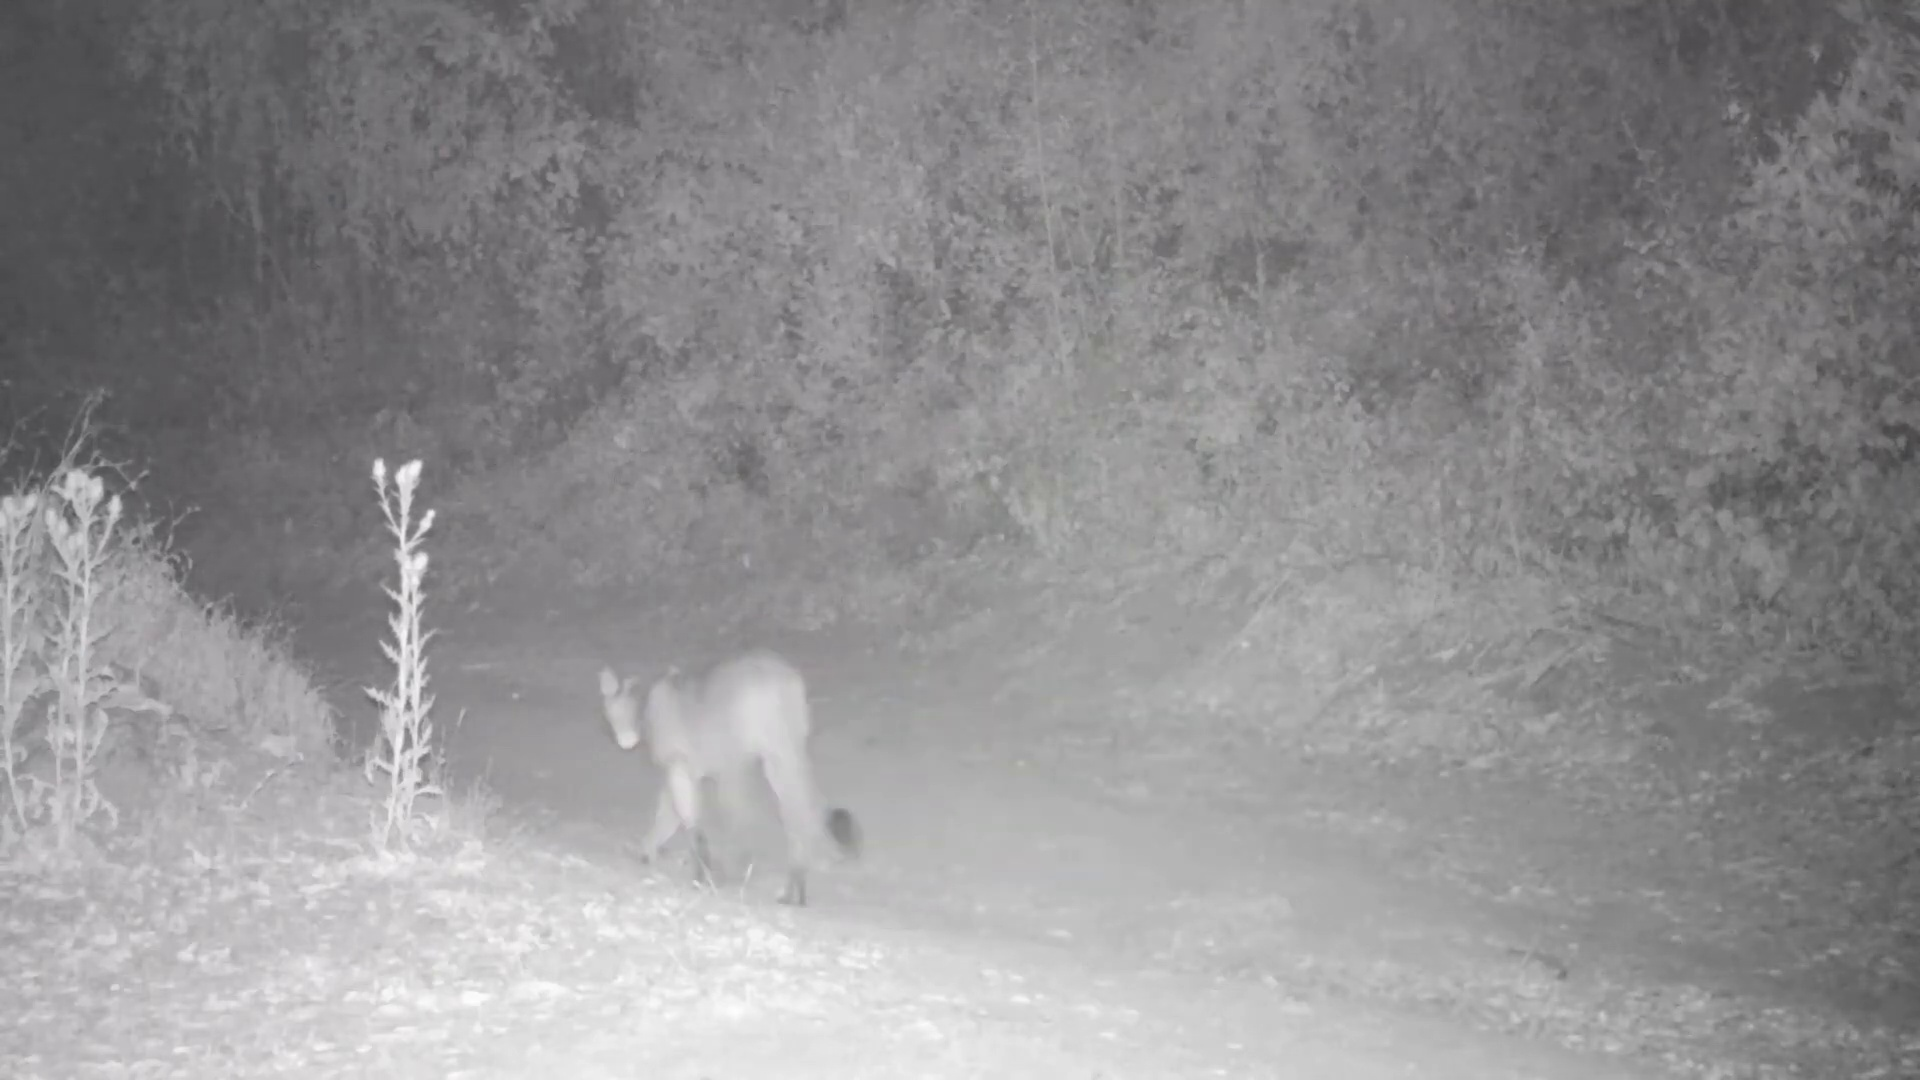Lion: (595, 645, 861, 911)
